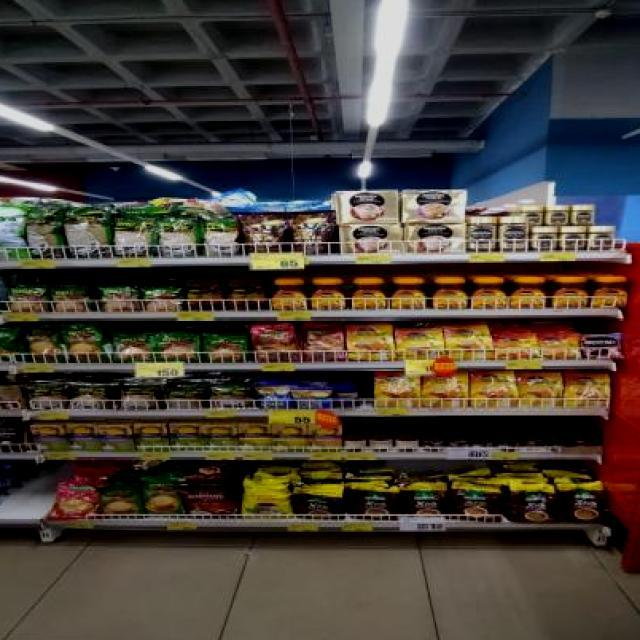Coffee: (346, 325, 394, 360), (422, 372, 470, 407), (471, 371, 516, 406), (376, 372, 420, 407), (396, 328, 444, 360), (446, 326, 492, 359), (518, 372, 561, 406), (564, 374, 608, 406), (270, 280, 308, 310), (509, 278, 545, 308), (495, 334, 538, 359), (554, 278, 588, 308), (594, 278, 628, 308), (472, 278, 506, 308), (538, 334, 578, 359), (432, 279, 466, 308), (391, 279, 424, 308), (354, 280, 386, 309), (312, 280, 344, 309), (502, 216, 528, 250), (468, 217, 494, 251), (581, 335, 619, 358), (590, 227, 614, 250), (561, 227, 584, 250), (533, 228, 556, 250), (546, 206, 568, 225), (524, 206, 544, 225), (574, 206, 594, 224)
